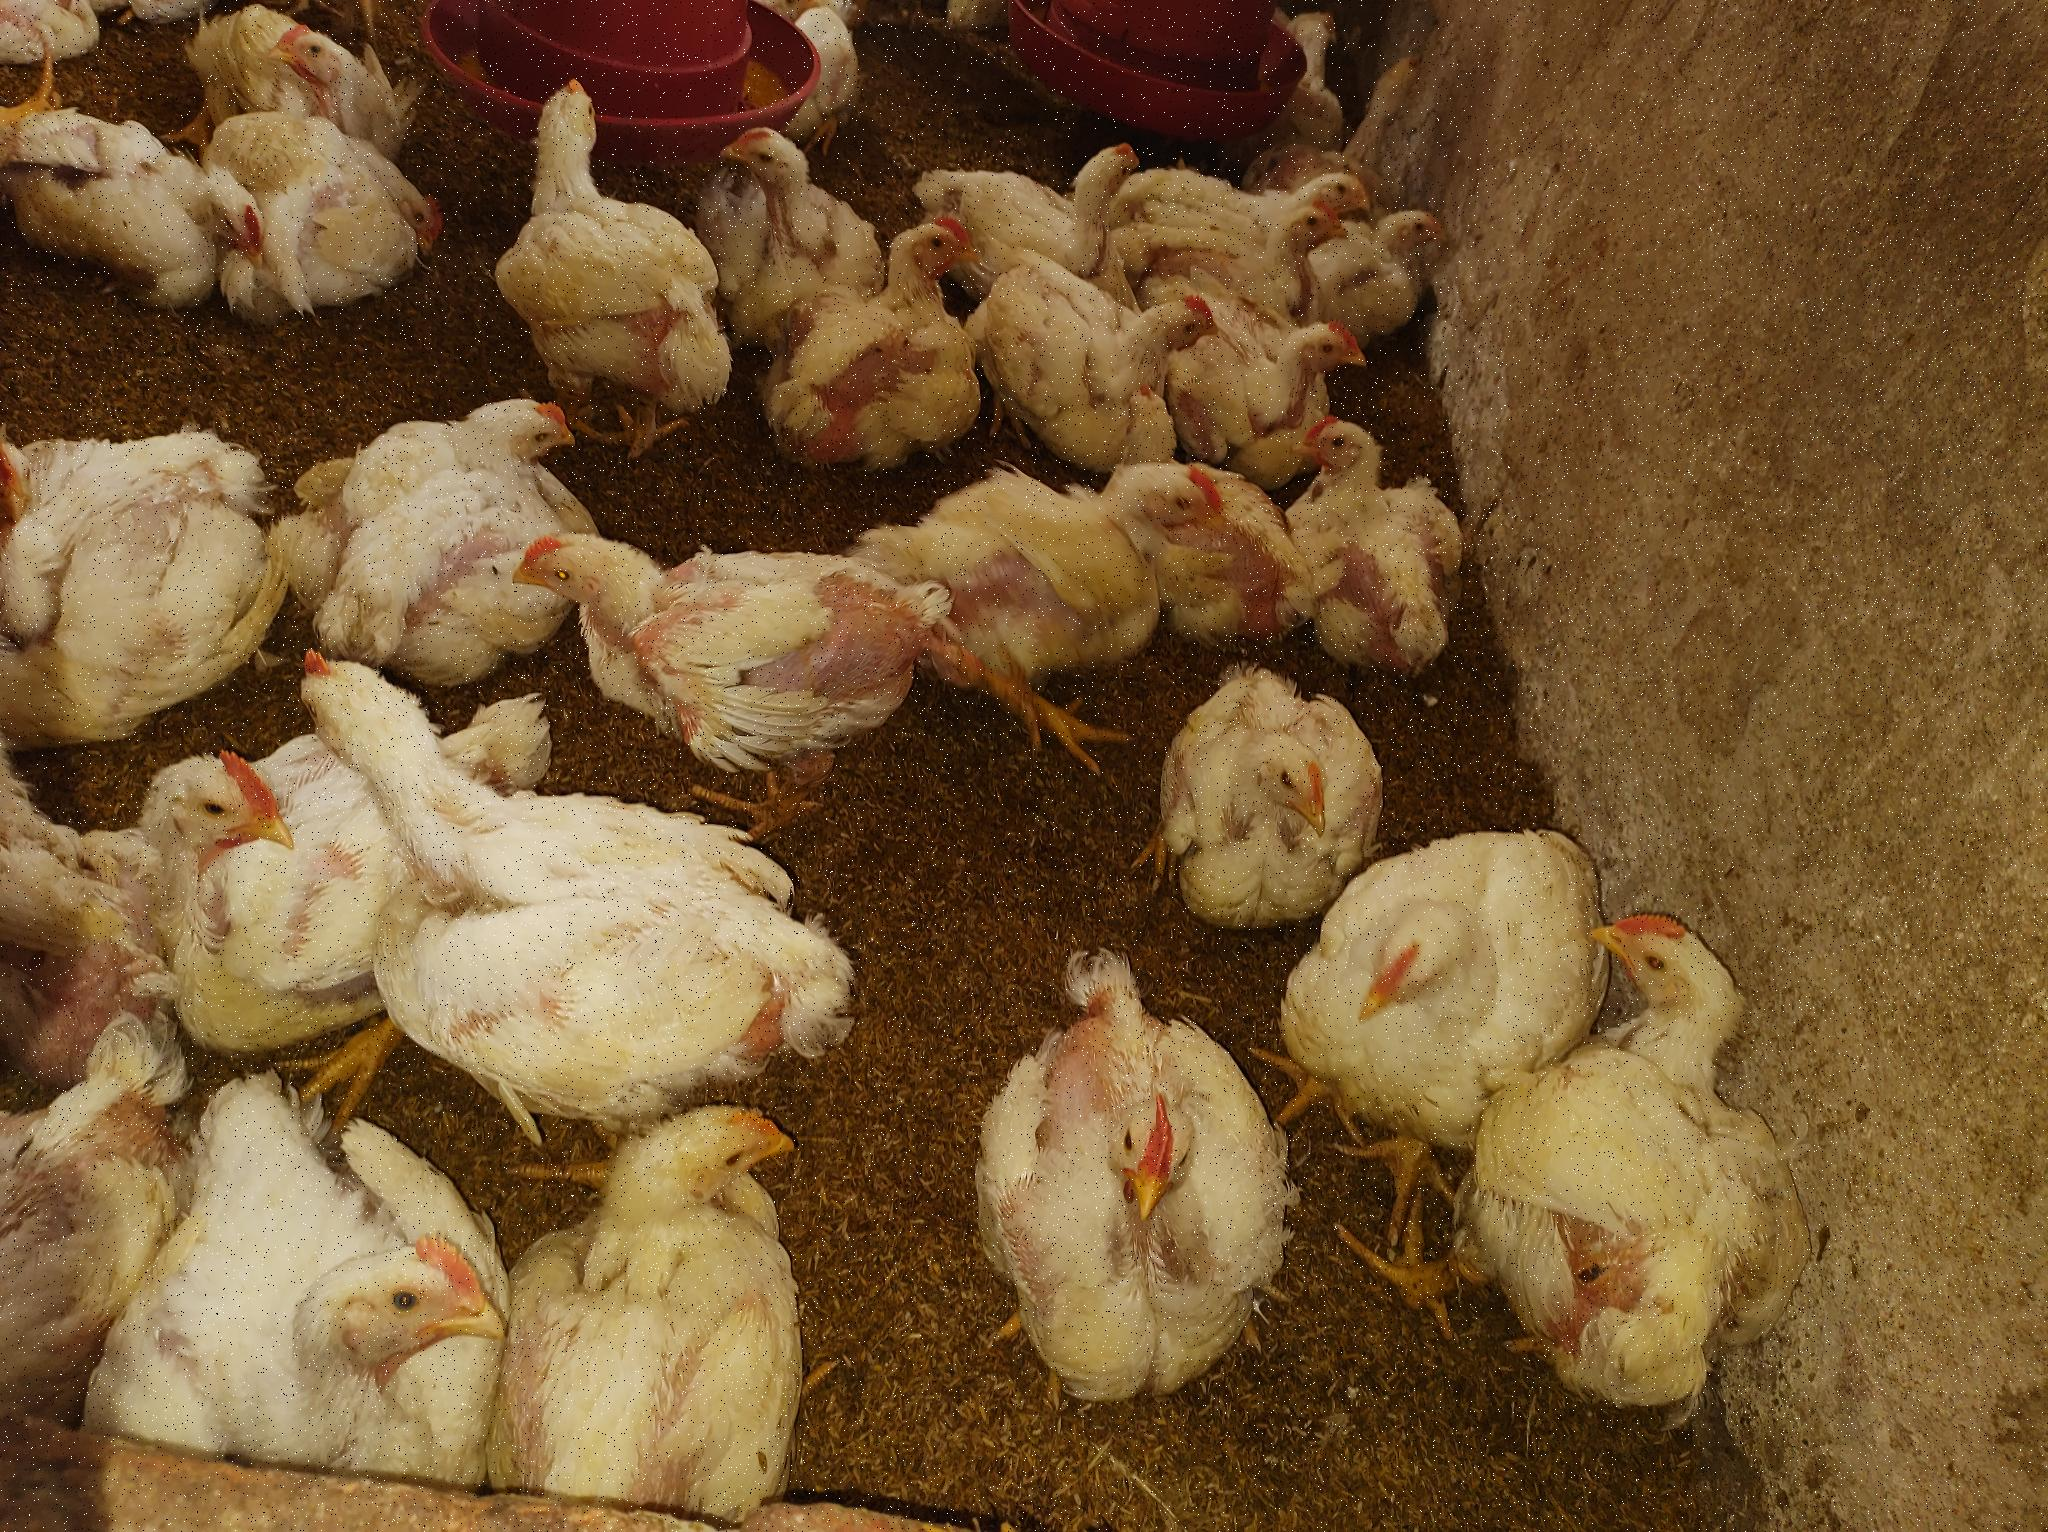Pollos: (296, 640, 867, 1086), (1297, 821, 1668, 1231), (515, 1085, 845, 1527), (1525, 904, 1812, 1405), (978, 949, 1287, 1411), (175, 1101, 510, 1497), (515, 518, 944, 769), (3, 391, 282, 750), (857, 455, 1216, 723), (3, 764, 335, 1023), (2, 1019, 201, 1429), (520, 68, 756, 414), (315, 385, 578, 681), (6, 93, 265, 328), (1152, 669, 1393, 917), (1277, 418, 1485, 653), (795, 211, 988, 451), (262, 117, 459, 333), (684, 117, 890, 309), (951, 129, 1163, 267), (199, 13, 394, 158), (989, 248, 1215, 370), (1117, 393, 1279, 562), (1187, 328, 1366, 455), (1195, 187, 1348, 319), (758, 14, 909, 142), (2, 2, 119, 109), (1363, 200, 1464, 303), (1298, 145, 1374, 212)
